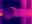Hotspot: (0, 13, 2, 16)
